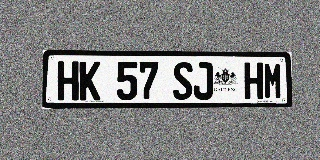5: (117, 62, 137, 100)
7: (138, 62, 158, 100)
H: (57, 61, 79, 101), (244, 62, 263, 99)
J: (193, 62, 213, 100)
K: (79, 61, 100, 100)
M: (264, 62, 282, 99)
S: (173, 62, 193, 100)
